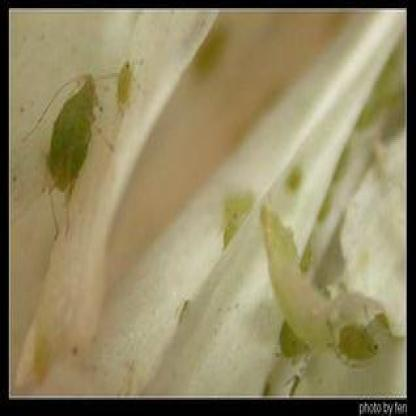aphid: (35, 64, 101, 231), (329, 303, 388, 373), (108, 48, 146, 115), (270, 311, 319, 361)
